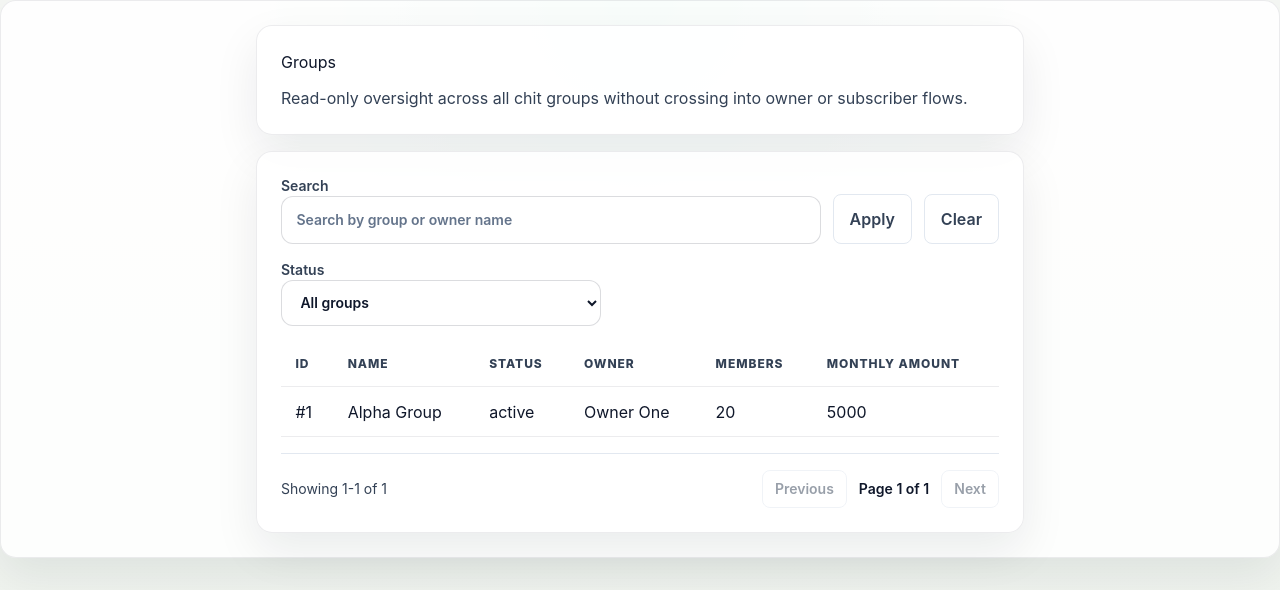
Scenario: AdminGroupsPage lets admins filter by group status
The width and height of the screenshot is (1280, 590).
Expected: the link "Alpha Group" is shown, [348, 402, 442, 422]
Select "Completed" in the dropdown labelled "Status". click: (441, 303)
box: [281, 280, 601, 326]
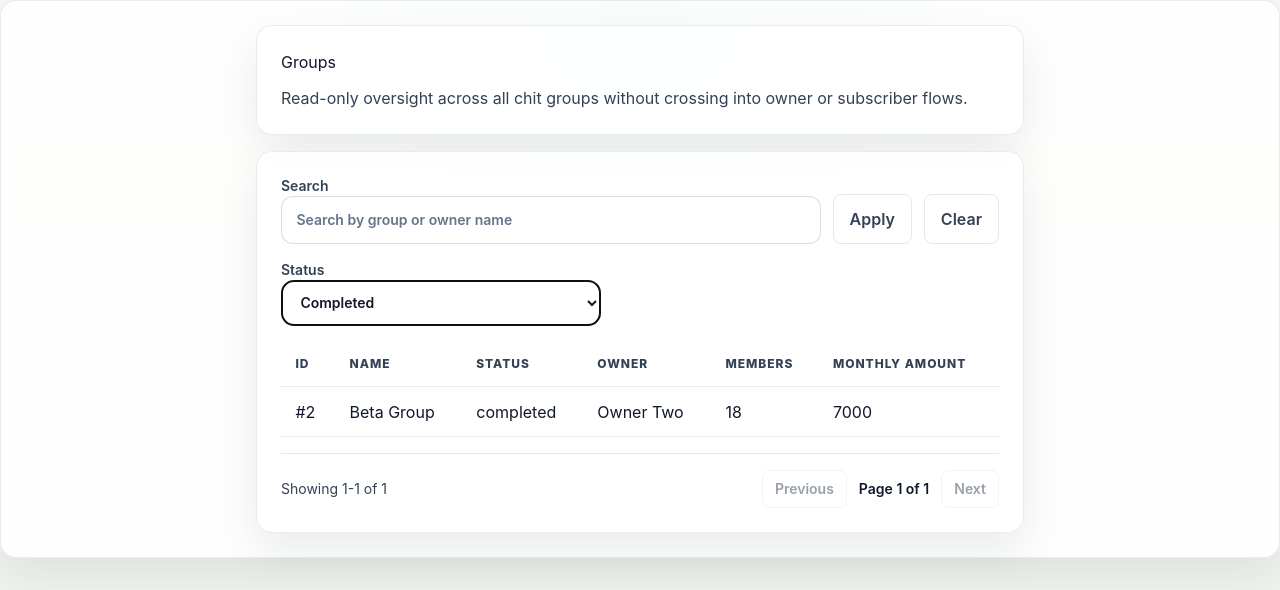
Expected: the link "Beta Group" is shown, [350, 402, 435, 422]
